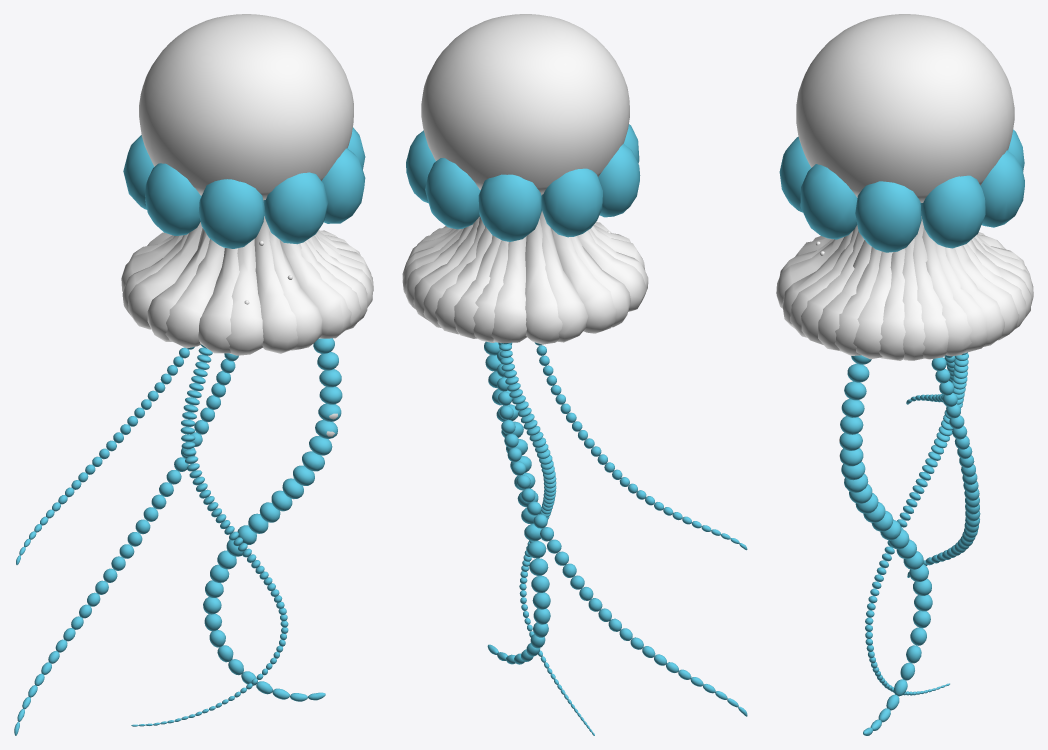
The model's file is flower1.glb.
The picture shows the model from 3 angles, left to right: view 1: azimuth 30°, elevation 25°; view 2: azimuth 150°, elevation 25°; view 3: azimuth 270°, elevation 25°; orthographic projection. The views are drawn at different scales.
Visible parts, largest first — view 1: Sphere; view 2: Sphere; view 3: Sphere.
Part boxes in pixels (x1=…): Sphere: x1=14, y1=14, x2=373, y2=735; Sphere: x1=402, y1=14, x2=747, y2=735; Sphere: x1=776, y1=14, x2=1033, y2=735.
Size of the model in its own units: 1.3 by 2.53 by 0.8397.
Materials: 2 (1 with a texture image).
